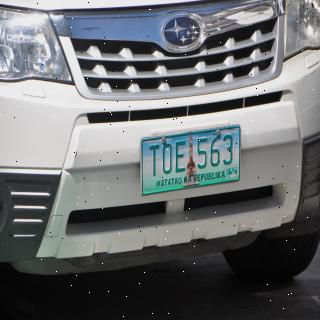license: (142, 127, 242, 197)
